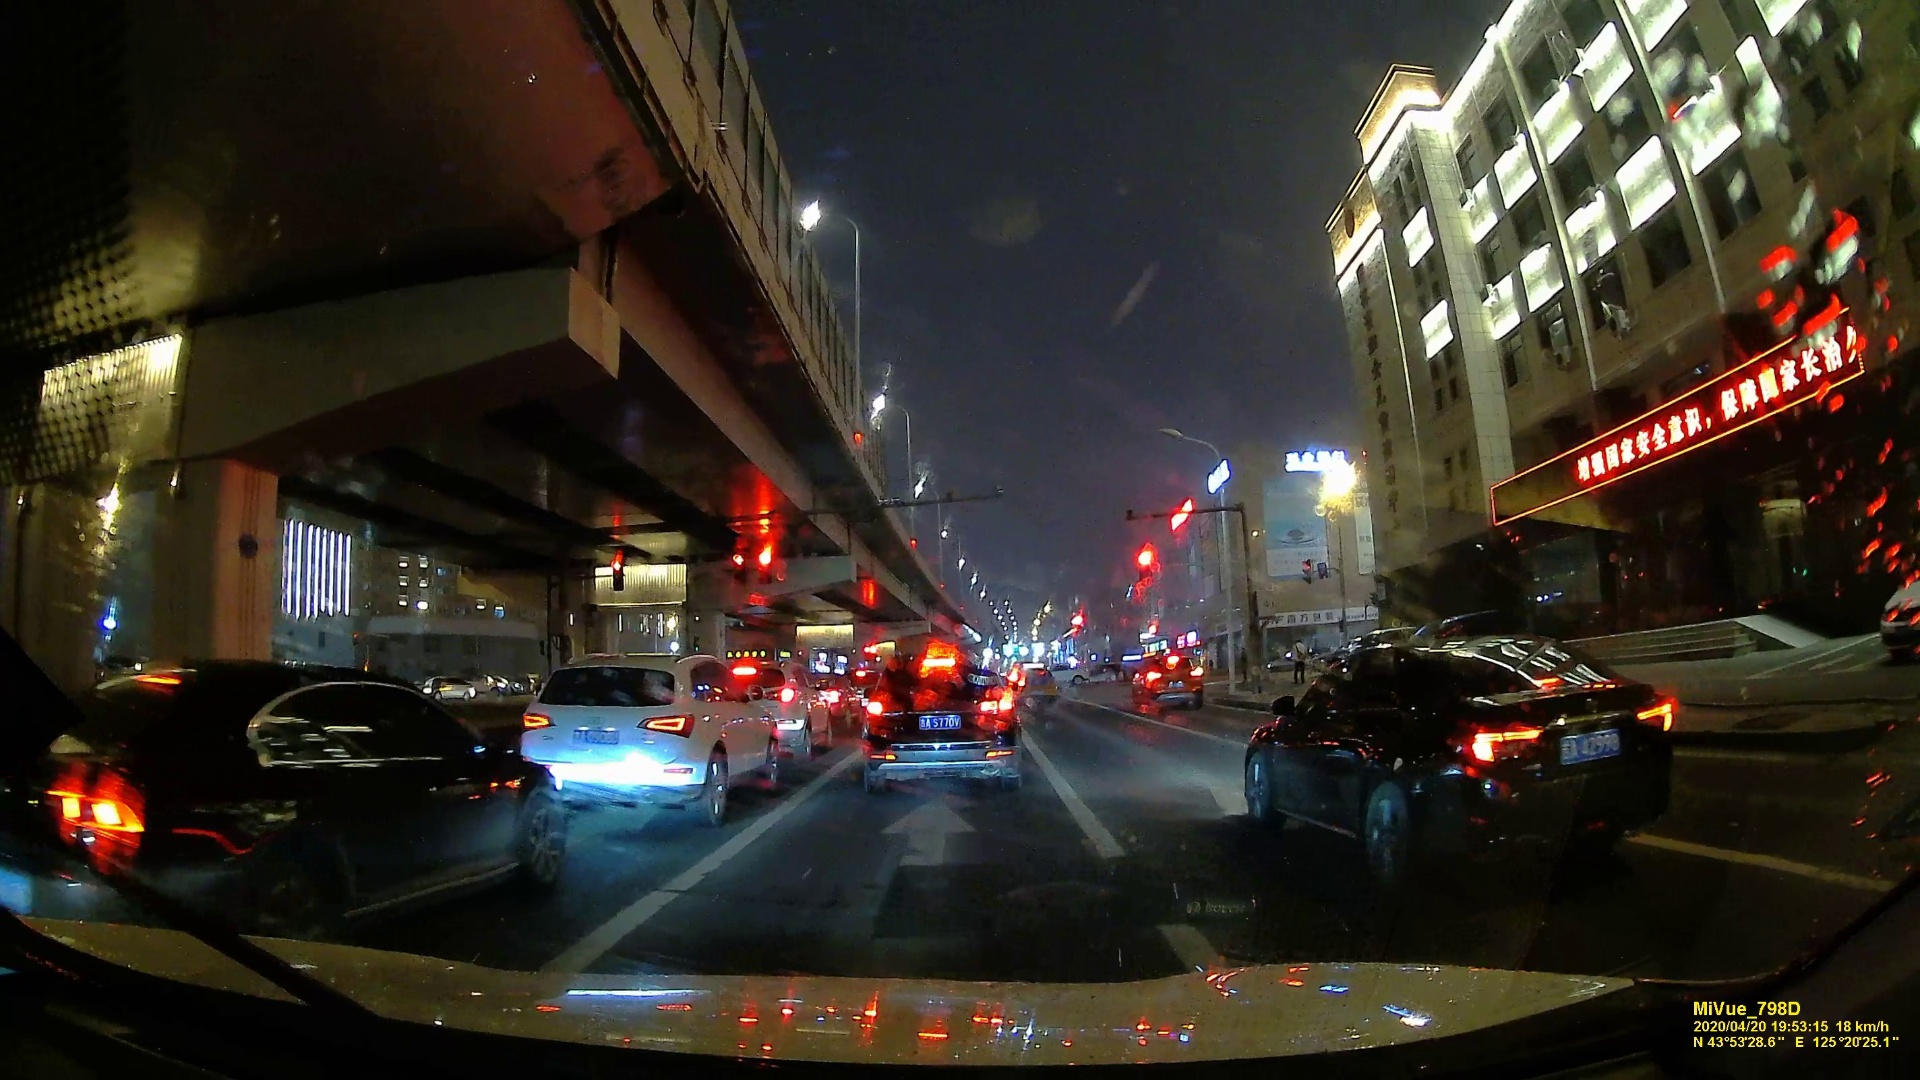person: (1285, 636, 1310, 685)
traffic_sign: (1136, 544, 1153, 582), (731, 551, 747, 582), (611, 554, 624, 590), (757, 550, 772, 581)
vehicle: (12, 652, 556, 926), (1231, 617, 1674, 865), (514, 650, 786, 833), (858, 653, 1020, 798), (1132, 654, 1207, 707)
